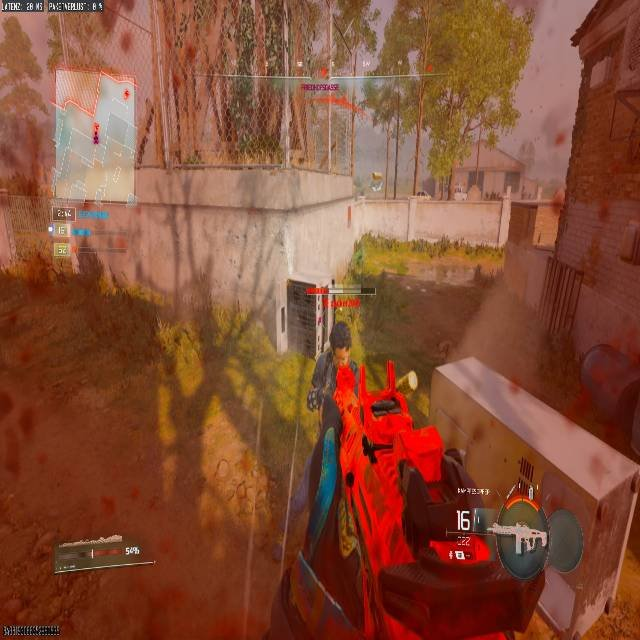head: (329, 321, 352, 351)
player: (306, 321, 412, 563)
